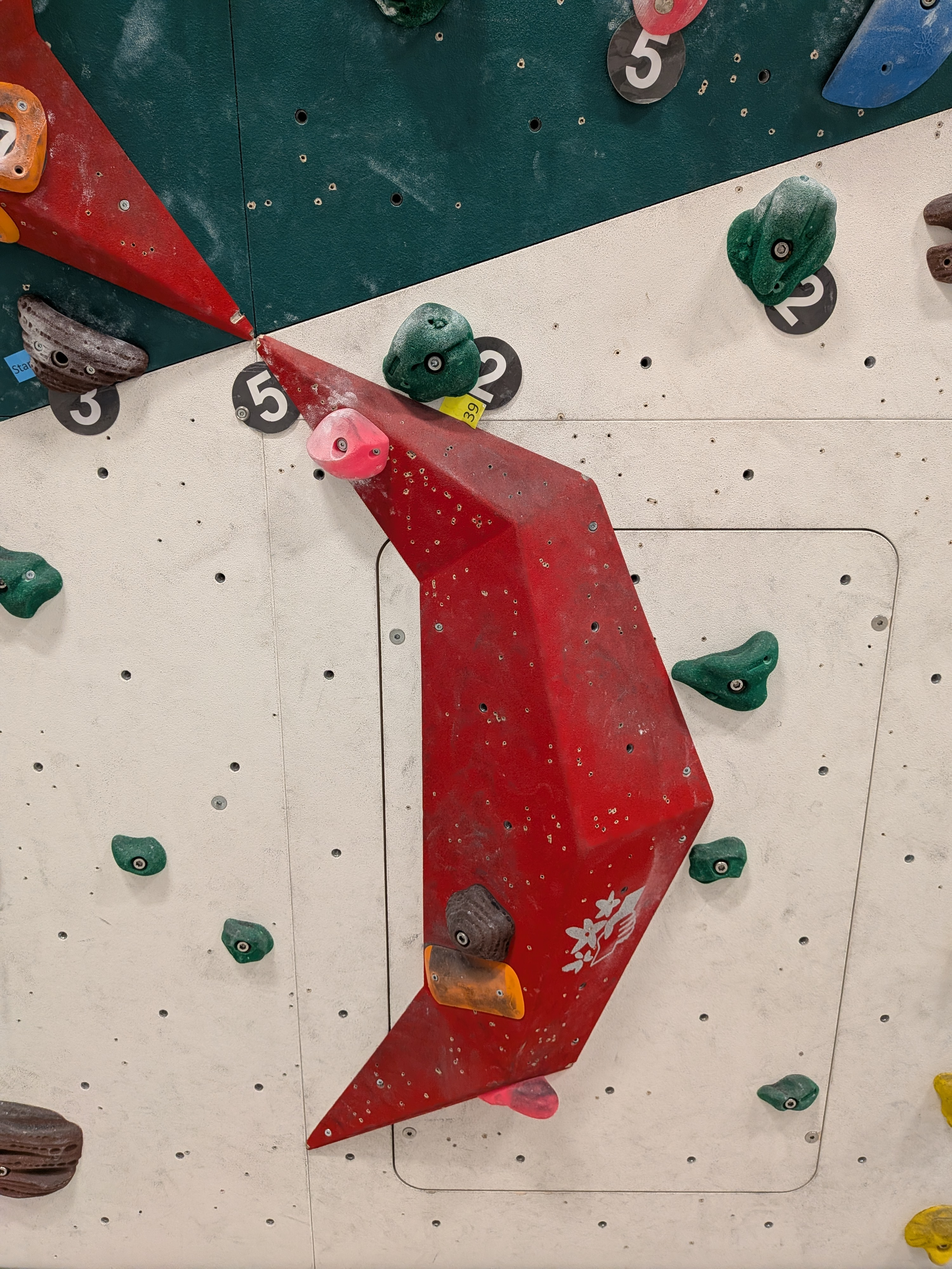hold: (725, 177, 834, 304), (825, 0, 952, 108), (14, 295, 146, 391), (383, 304, 481, 401), (670, 631, 779, 710), (0, 1102, 79, 1196), (426, 946, 522, 1018), (307, 409, 387, 481), (446, 886, 514, 961), (0, 82, 43, 194), (0, 550, 59, 618), (481, 1078, 560, 1119), (635, 0, 708, 36), (690, 838, 747, 883), (909, 1206, 952, 1264), (220, 920, 272, 963), (758, 1075, 820, 1111), (109, 836, 163, 875), (375, 0, 446, 27), (923, 193, 952, 229), (927, 243, 952, 284), (0, 206, 19, 243), (939, 1072, 952, 1117)
volume: (252, 337, 717, 1153), (0, 1, 261, 340)
